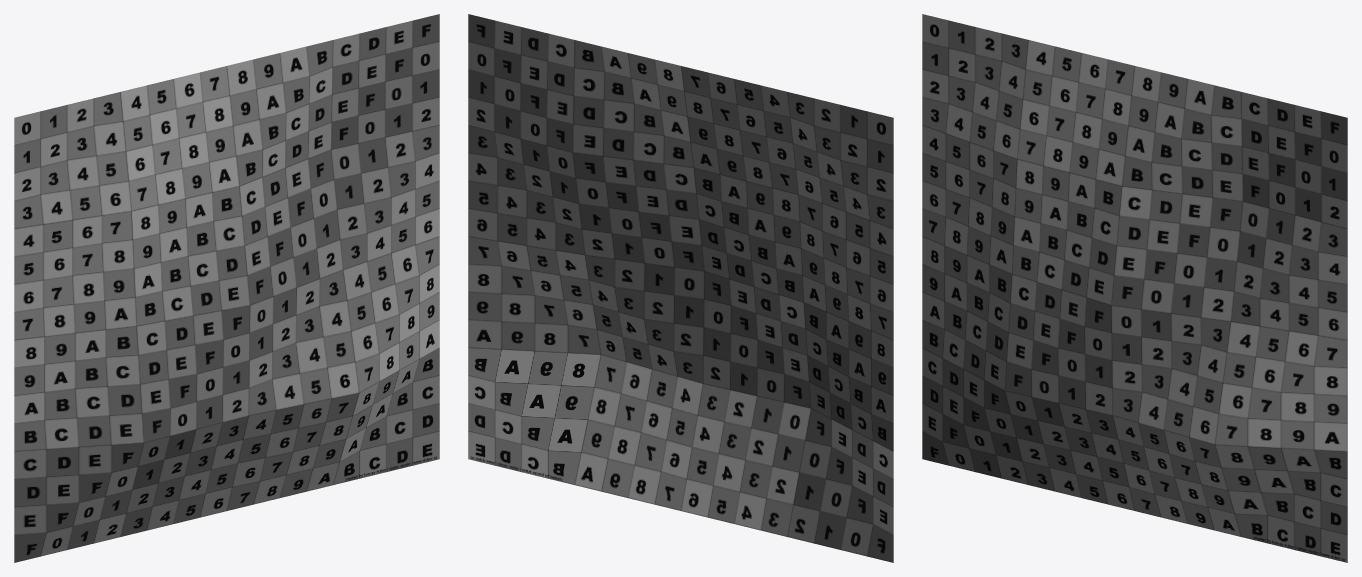
Rendered from WallTile1.fbx.
3 views of the same model, side by side, from view 1: azimuth 30°, elevation 25°; view 2: azimuth 150°, elevation 25°; view 3: azimuth 330°, elevation 25° (orthographic).
Parts seen in each view (by area): view 1: pPlane14; view 2: pPlane14; view 3: pPlane14.
Part boxes in pixels (box(x1,y1,x2,y2)): pPlane14: box(14, 14, 439, 562); pPlane14: box(468, 14, 893, 562); pPlane14: box(922, 14, 1347, 562).
Bounding box in the file's own units: 1 × 1 × 0.1147.
Materials: 1 (1 with a texture image).
